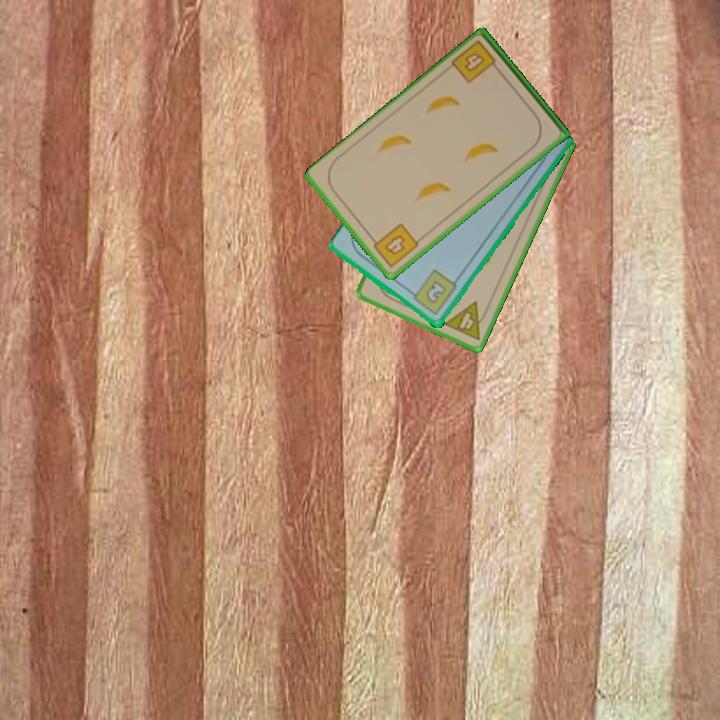2b: (406, 267, 460, 319)
4b: (367, 220, 422, 271), (448, 37, 503, 87)
4p: (440, 298, 492, 343)
